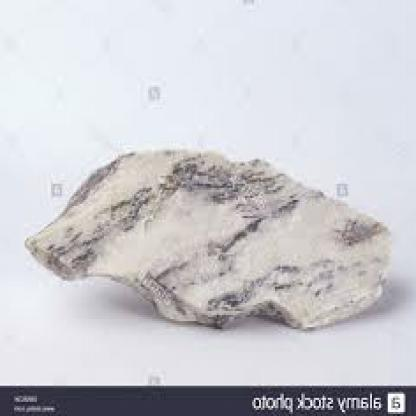Metamorphic_Marble: (19, 144, 395, 341)
